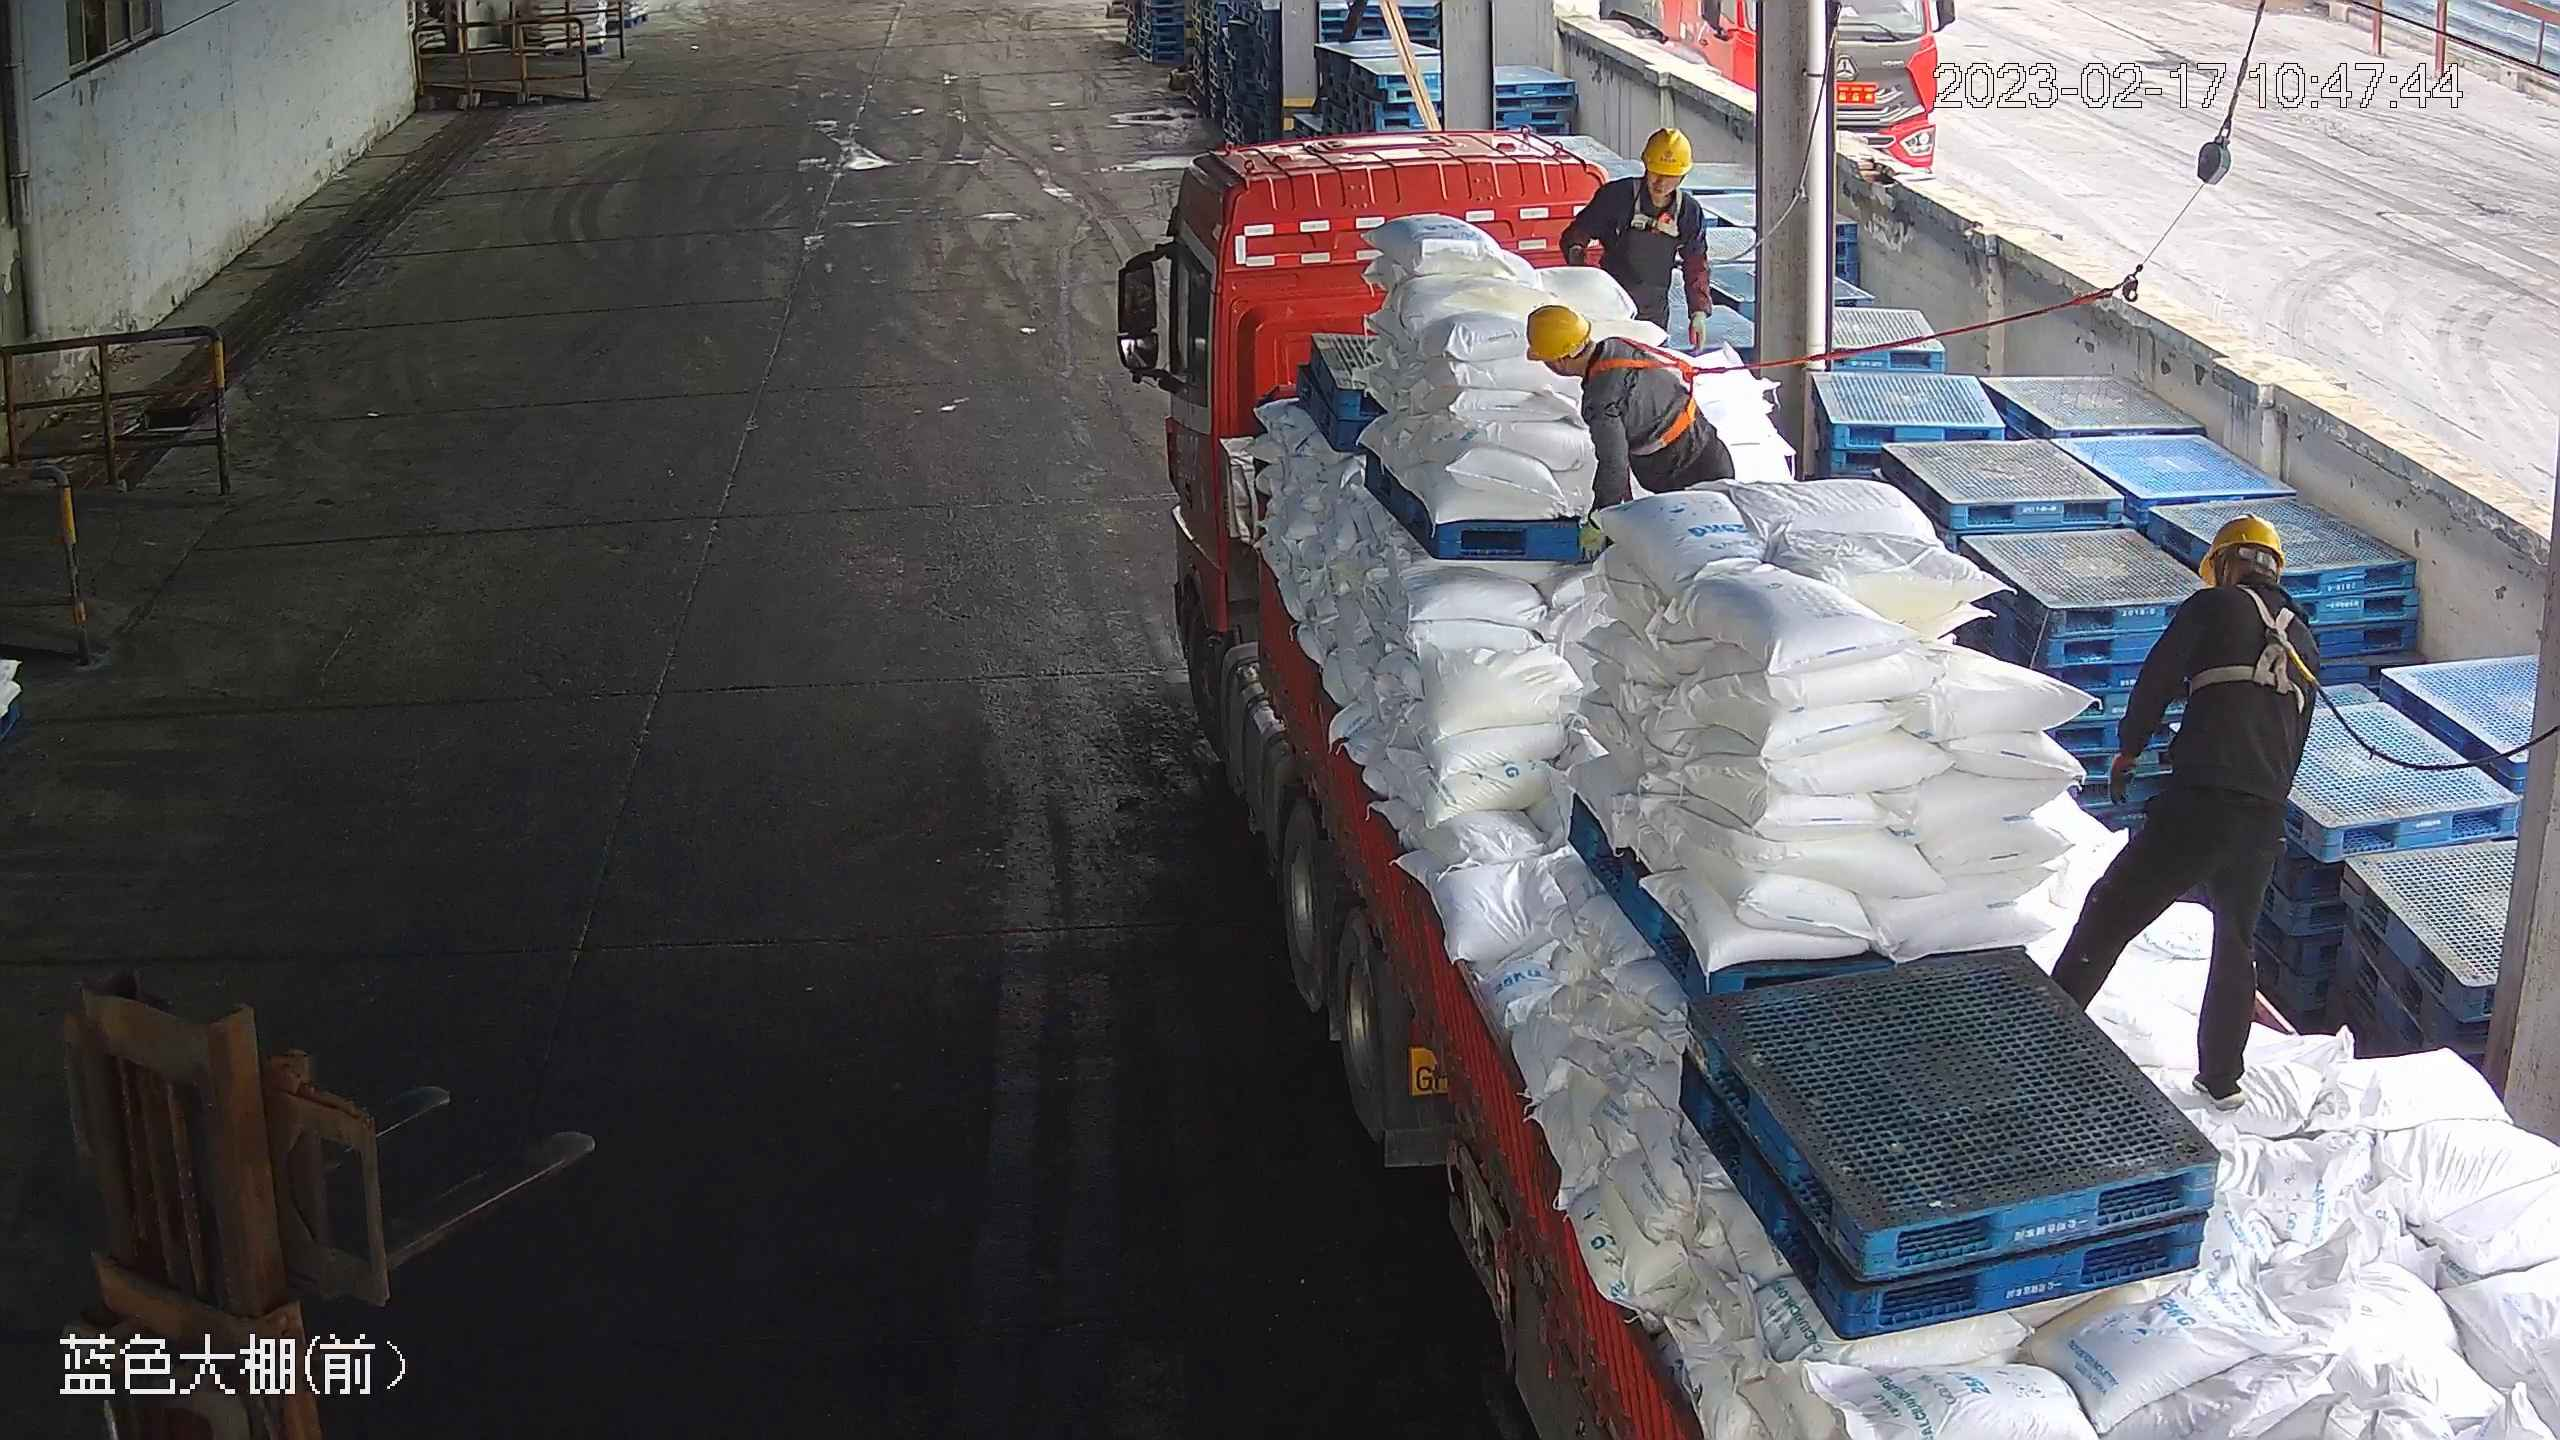belt: (1588, 333, 1715, 455), (2189, 577, 2315, 695), (1625, 175, 1703, 237)
head: (2172, 513, 2321, 662), (1522, 300, 1637, 416), (1583, 125, 1708, 225)
helmet: (2172, 513, 2318, 658), (2200, 510, 2286, 578), (1522, 301, 1591, 364), (1639, 125, 1693, 177)
people: (2042, 511, 2316, 1109), (1522, 294, 1734, 494), (1563, 121, 1714, 349), (1588, 330, 1717, 461)
truck: (1109, 123, 2560, 1440)
